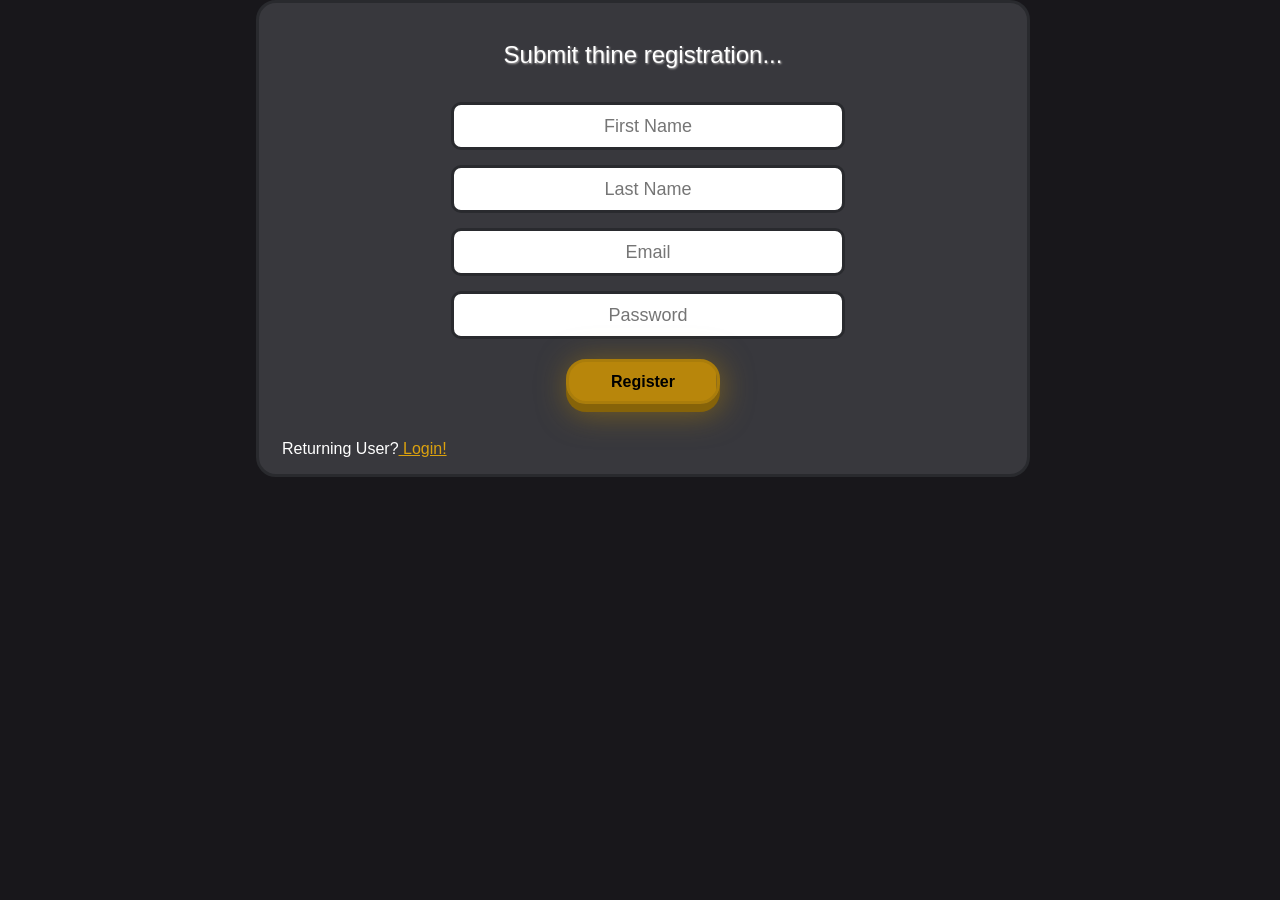
Test: Register Component › shows success modal after successful registration
Step 1. Type "John" into the field with placeholder "First Name" → (648, 126), box x1=451 y1=102 x2=845 y2=150
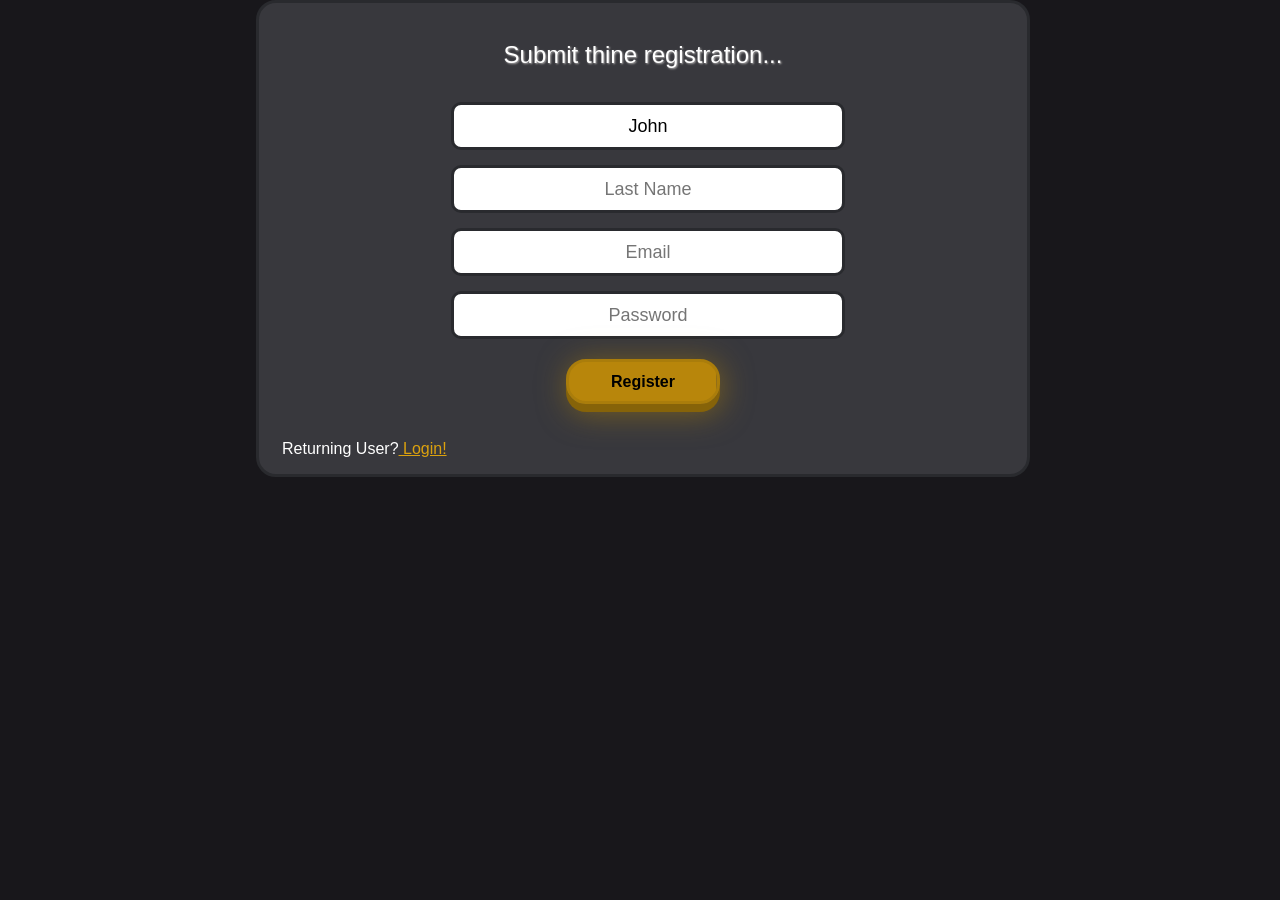
Step 2. Type "Doe" into the field with placeholder "Last Name" → (648, 189), box x1=451 y1=165 x2=845 y2=213
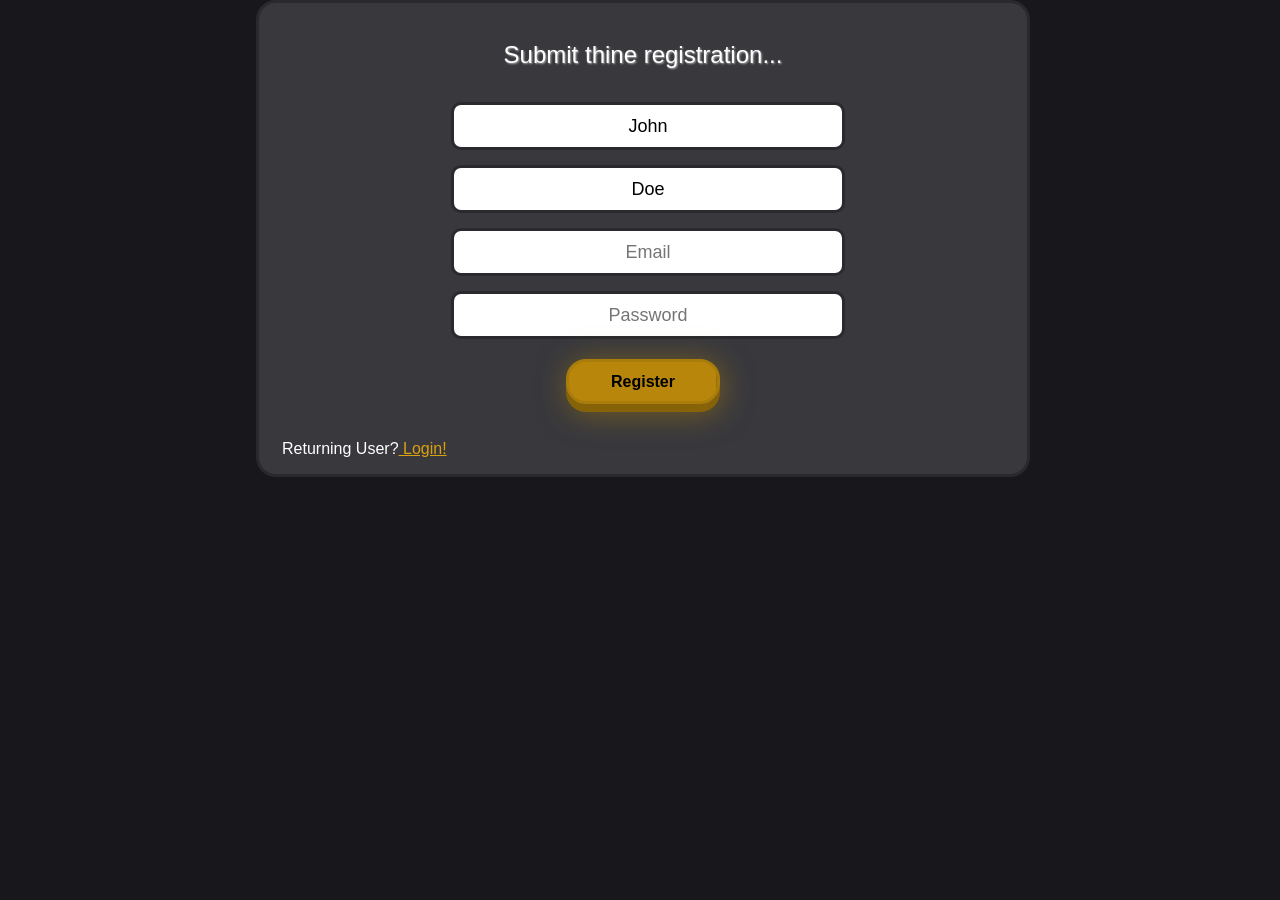
Step 3. Type "john@test.com" into the field with placeholder "Email" → (648, 252), box x1=451 y1=228 x2=845 y2=276
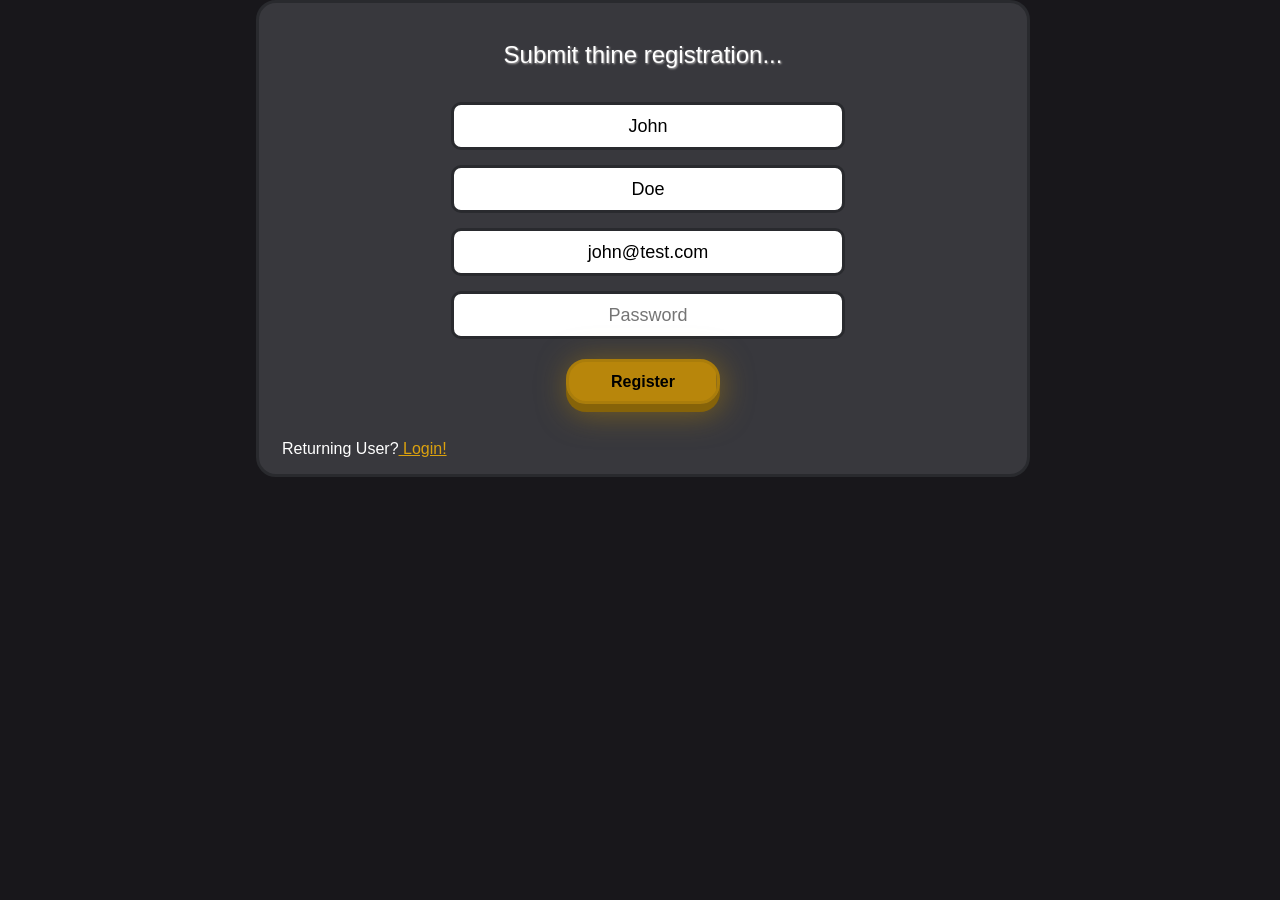
Step 4. Type "password123" into the password field with placeholder "Password" → (648, 315), box x1=451 y1=291 x2=845 y2=339
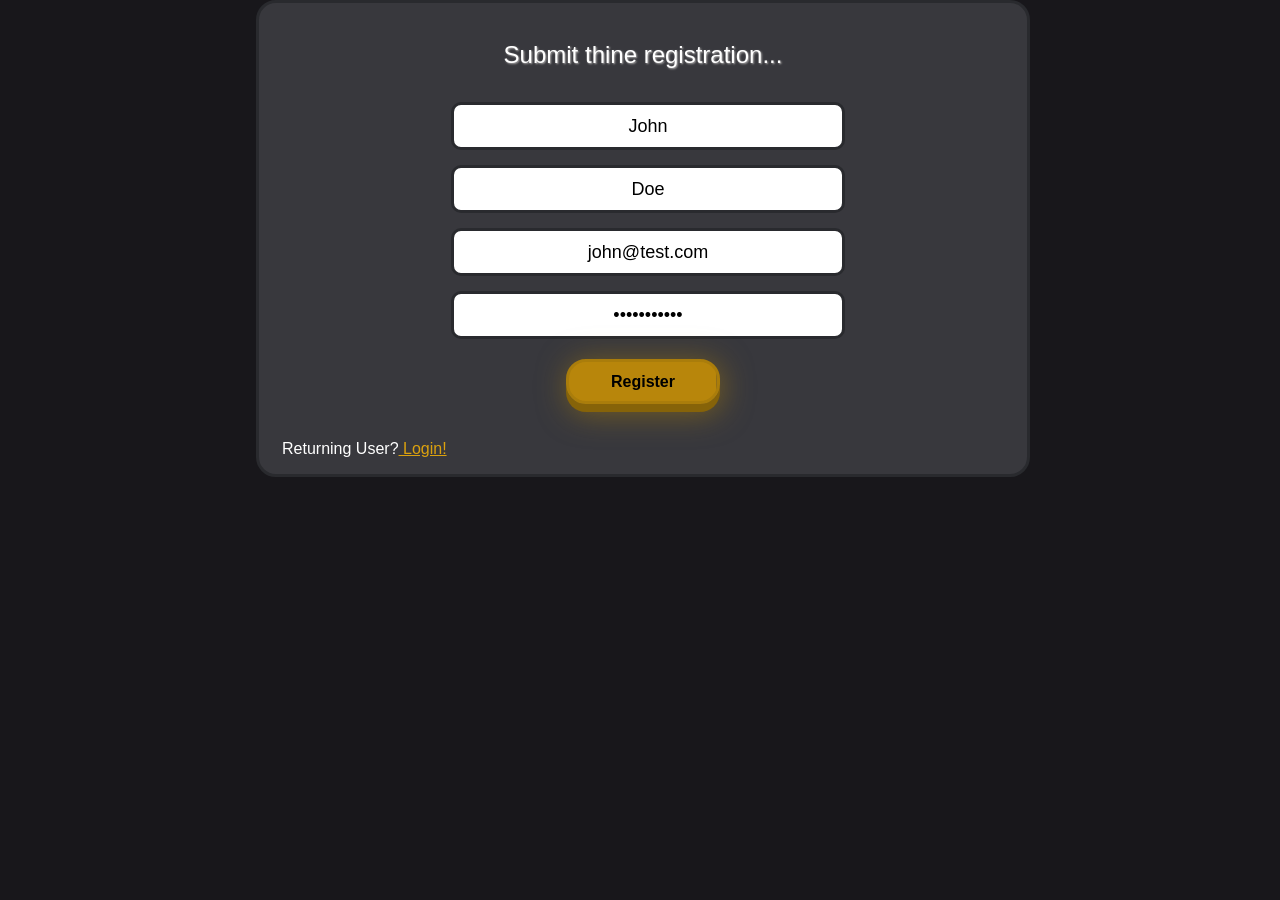
Step 5. Click the button showing "Register" → (643, 382), box x1=566 y1=359 x2=720 y2=404
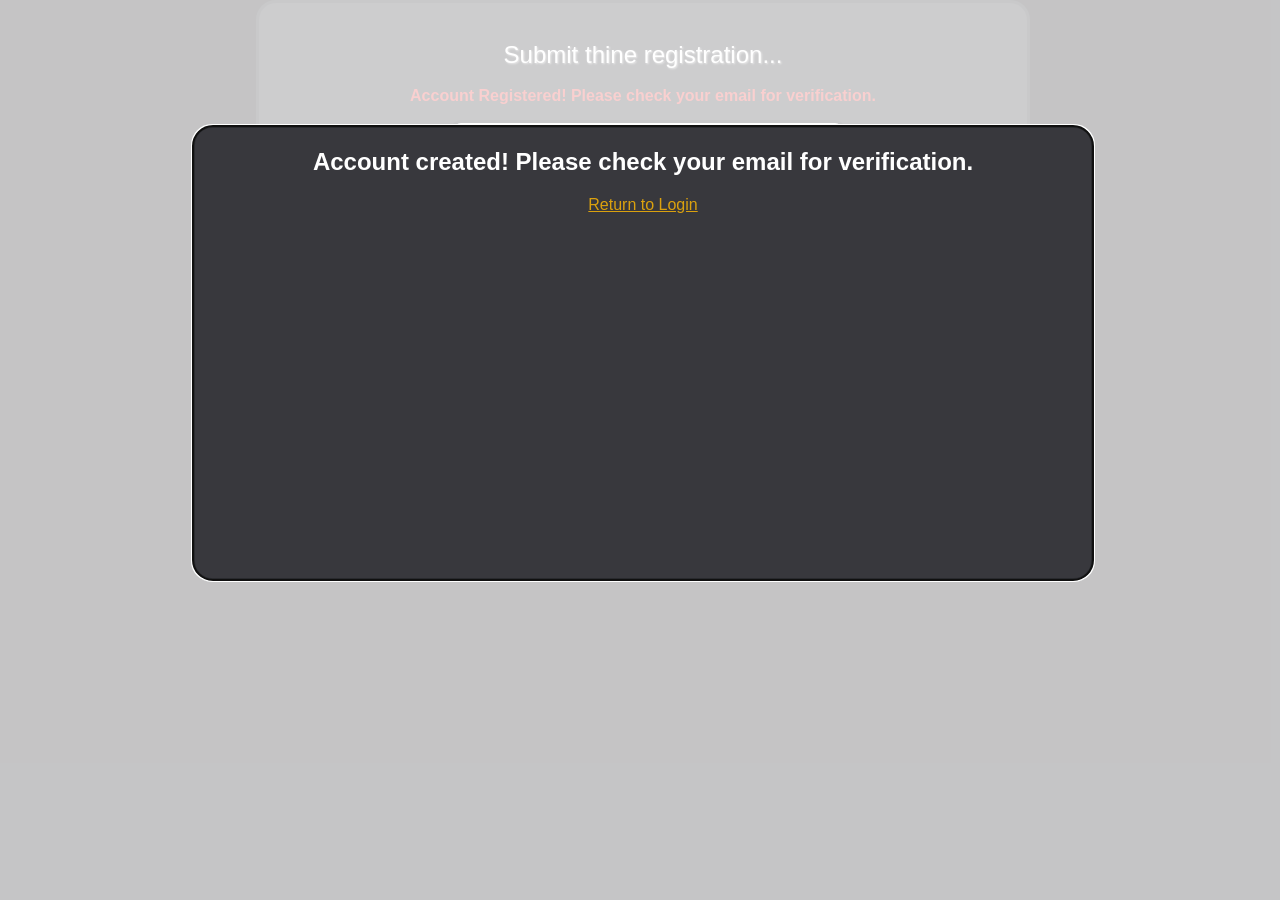
Expected: the heading "Account created! Please check your email for verification." is shown, x1=313 y1=148 x2=973 y2=175
